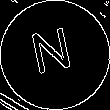N_S: (30, 26, 80, 84)
